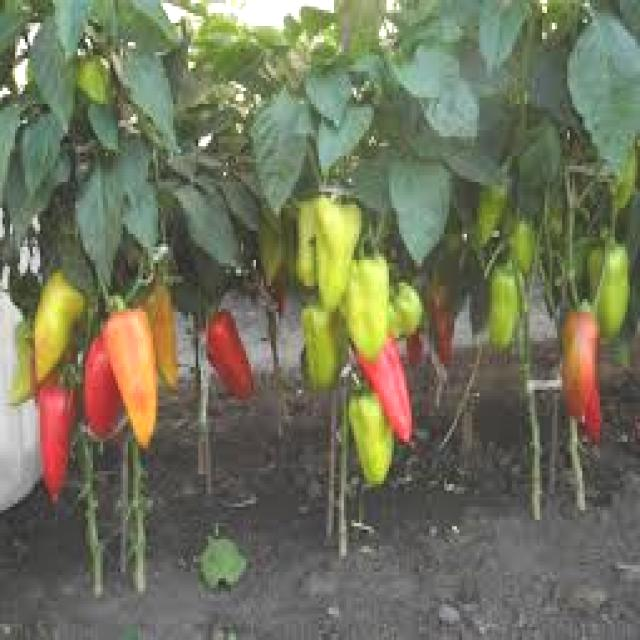carrot: (23, 353, 87, 517), (481, 220, 548, 350), (28, 259, 94, 390), (338, 240, 398, 370), (110, 296, 162, 444), (365, 322, 420, 450), (559, 305, 606, 437), (580, 225, 628, 348), (313, 193, 365, 304), (146, 254, 185, 400), (350, 390, 402, 499), (202, 302, 257, 403), (83, 330, 130, 438), (297, 291, 349, 386), (1, 317, 41, 416), (376, 277, 427, 348), (286, 189, 322, 287)
